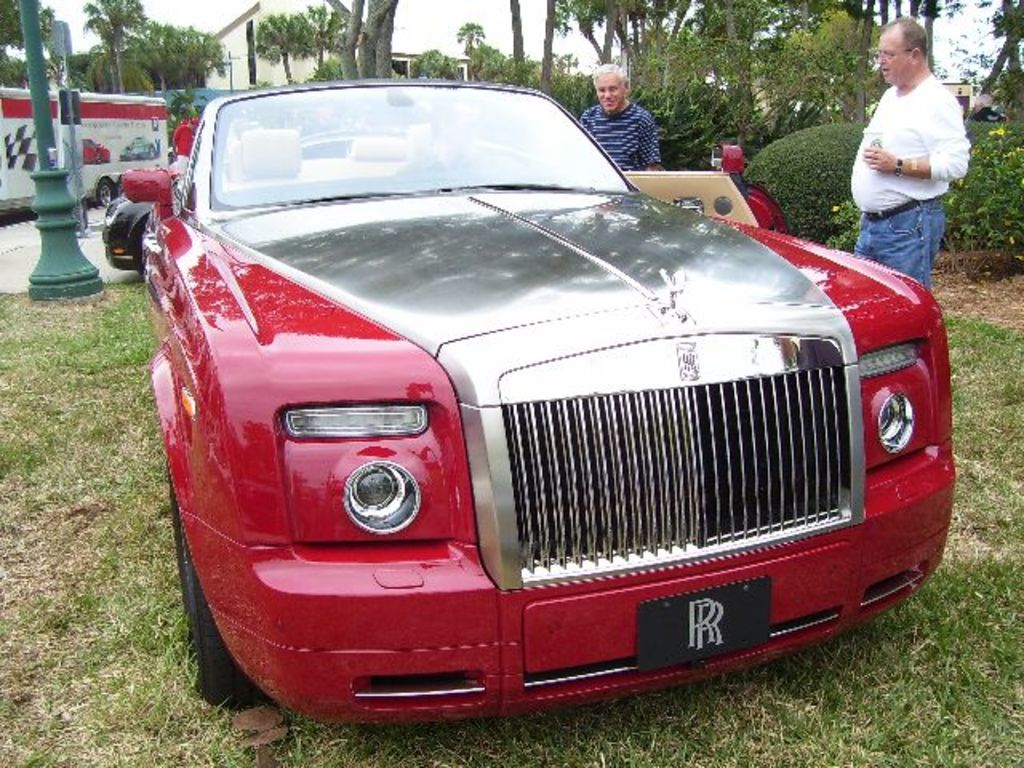Tree: (0, 0, 1024, 164)
